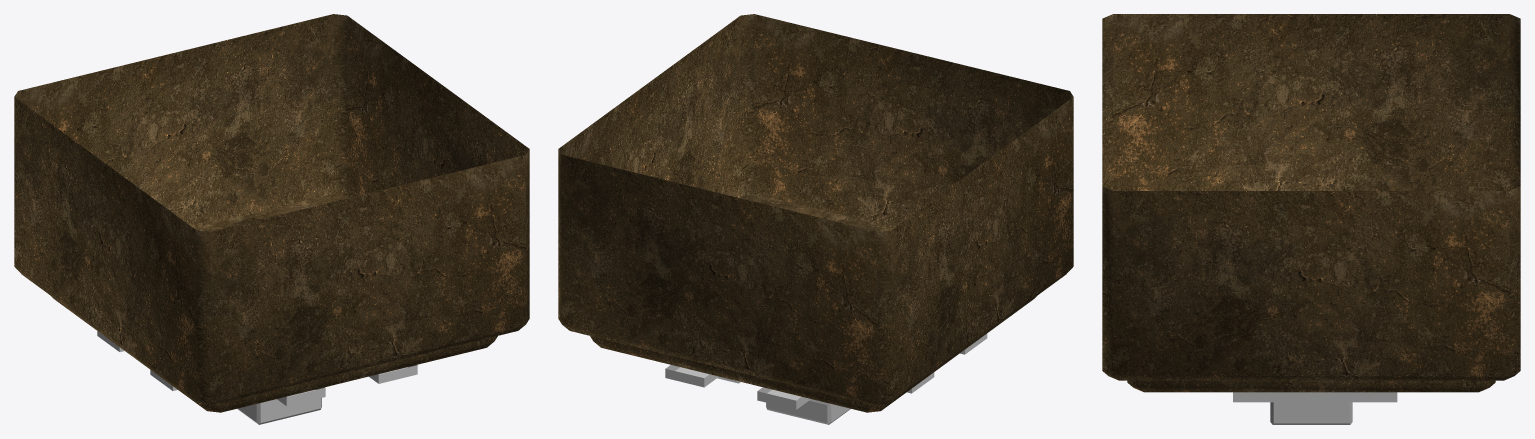
File: DG_CellAnchor.FBX
3 views of the same model, side by side, from view 1: azimuth 30°, elevation 25°; view 2: azimuth 150°, elevation 25°; view 3: azimuth 270°, elevation 25° (orthographic). The views are drawn at different scales.
Parts seen in each view (by area): view 1: DG_CellAnchor; view 2: DG_CellAnchor; view 3: DG_CellAnchor.
Boxes of the visible parts, x1=… form: DG_CellAnchor: x1=14, y1=14, x2=529, y2=424; DG_CellAnchor: x1=558, y1=14, x2=1073, y2=424; DG_CellAnchor: x1=1102, y1=14, x2=1520, y2=424.
Size of the model in its own units: 89.18 by 72.01 by 89.18.
